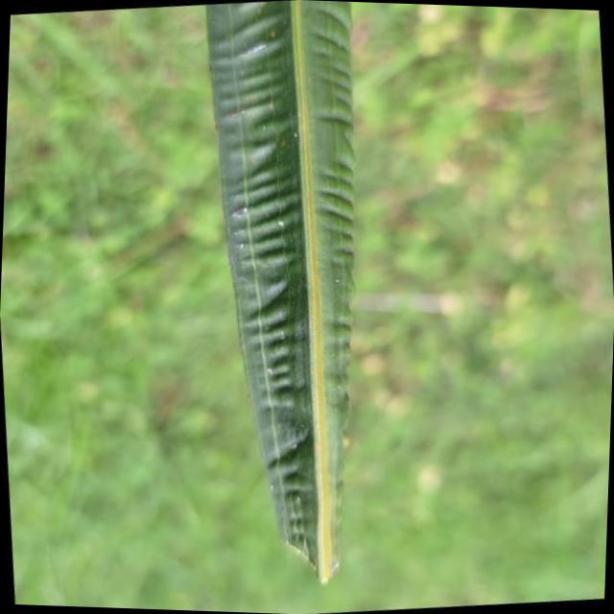Boron: (204, 0, 359, 590)
